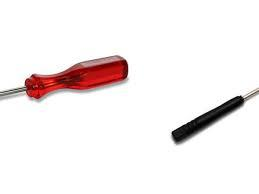screwdriver: (170, 86, 258, 144)
